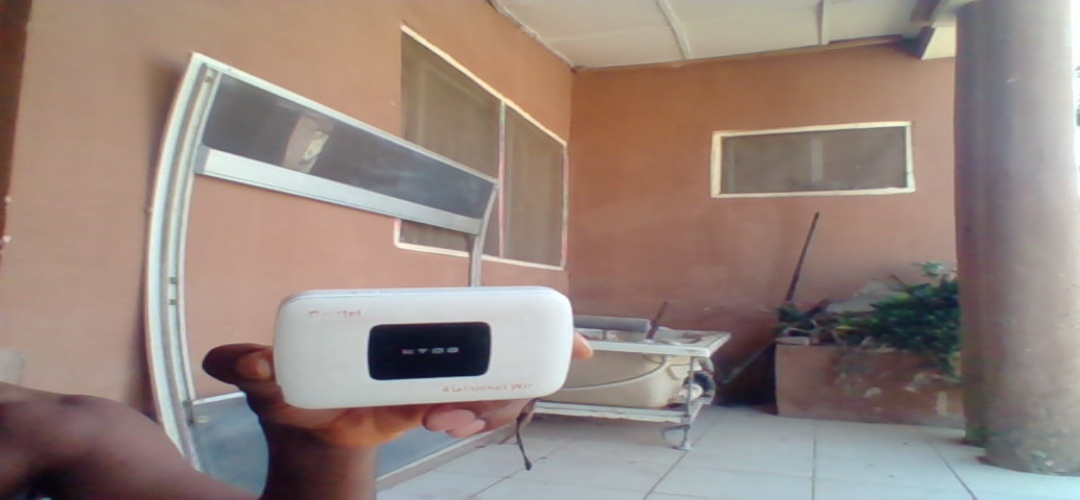mifi: (272, 289, 573, 409)
